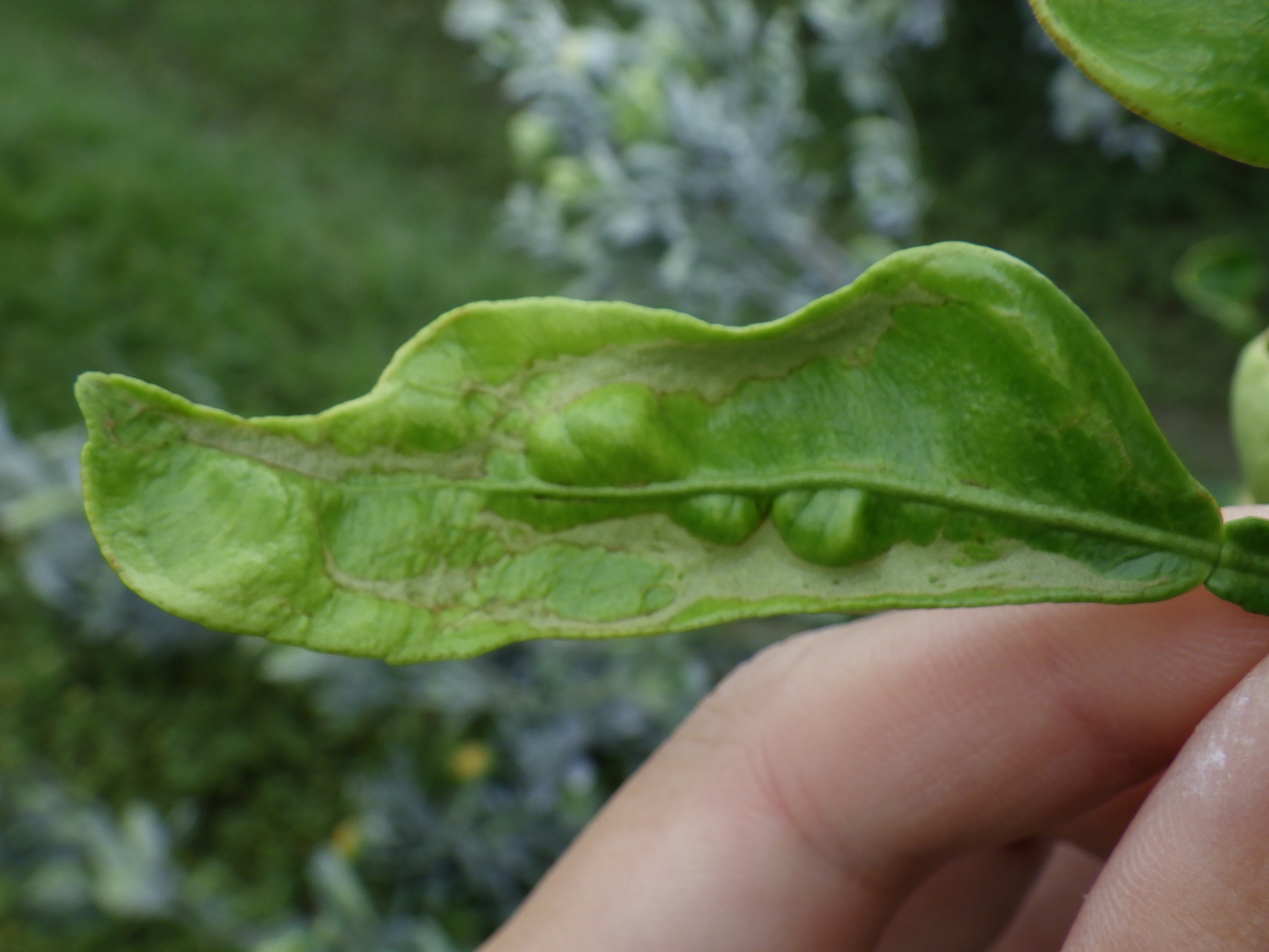Thrips_Damage: (175, 278, 1128, 636)
